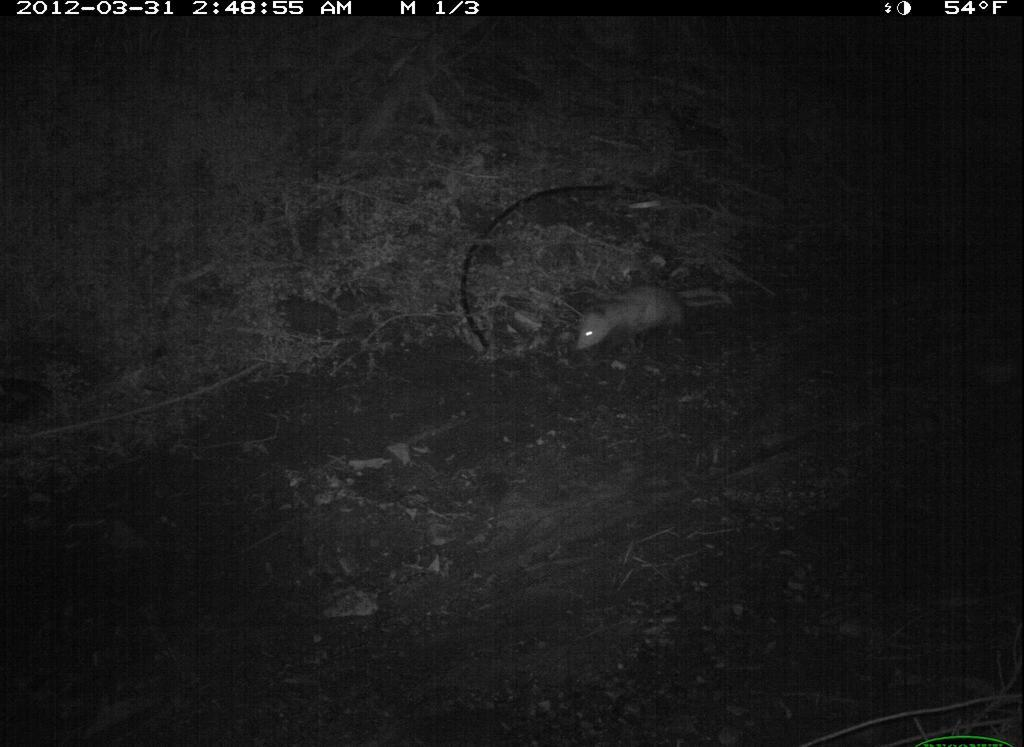opossum: (570, 276, 742, 359)
